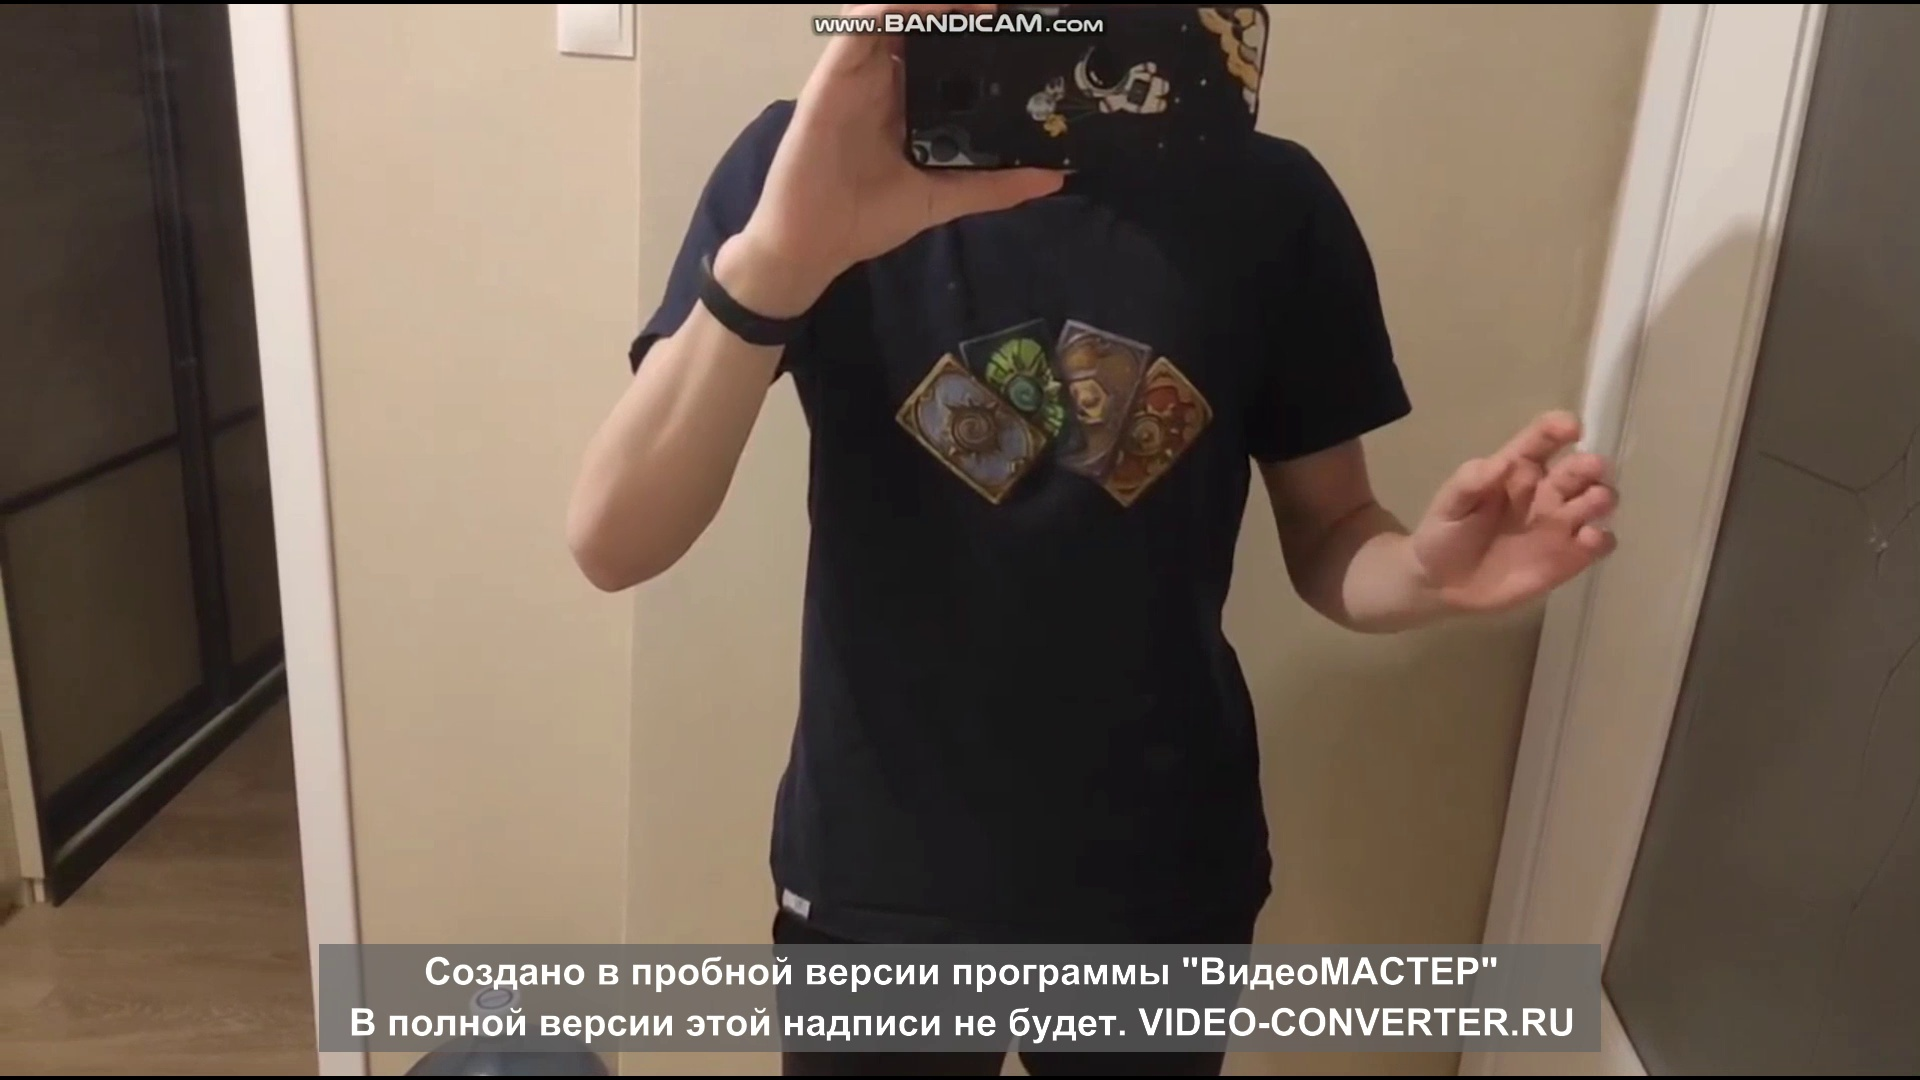Ладонь: (1414, 407, 1619, 615)
